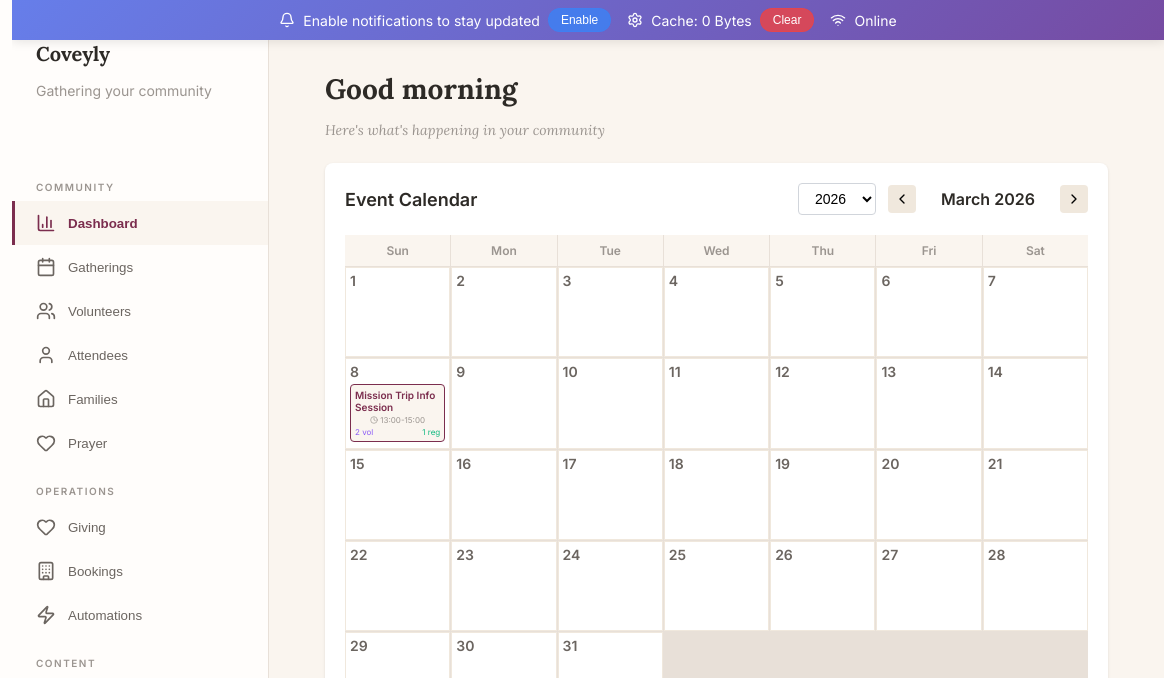
Test: navigates to Events tab when clicked
Click the button "Gatherings" at (140, 267), box [12,245,268,289]
(page scrolled)
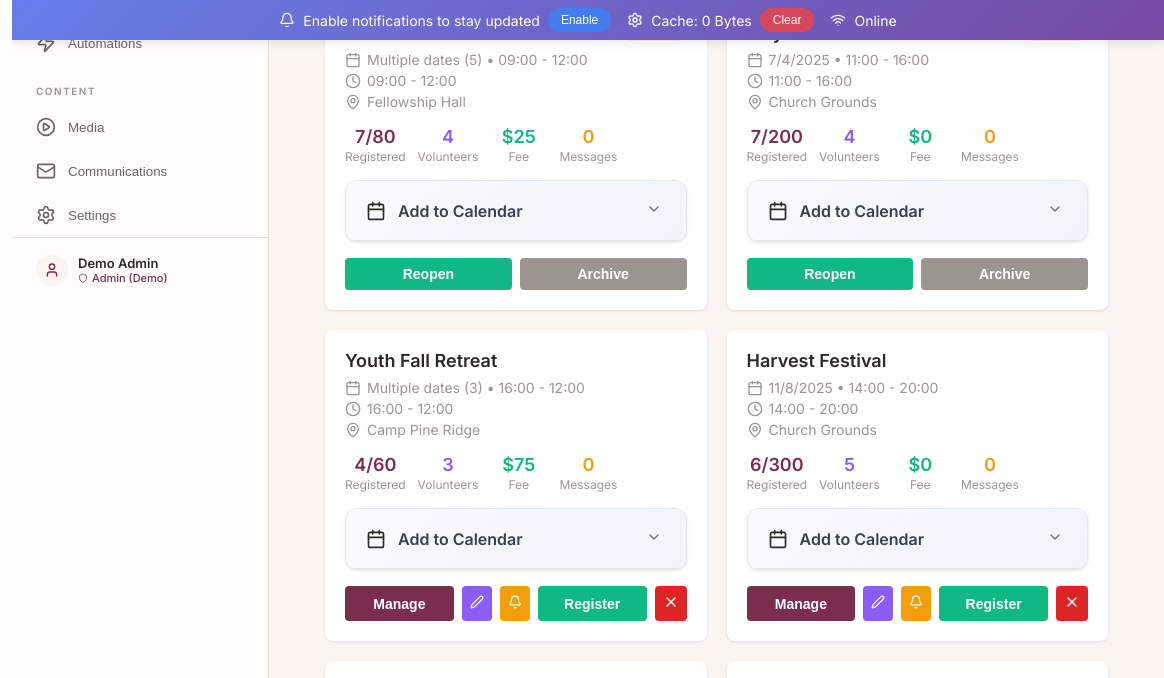
Expected: the heading "Youth Fall Retreat" is shown, [345,350,497,371]
